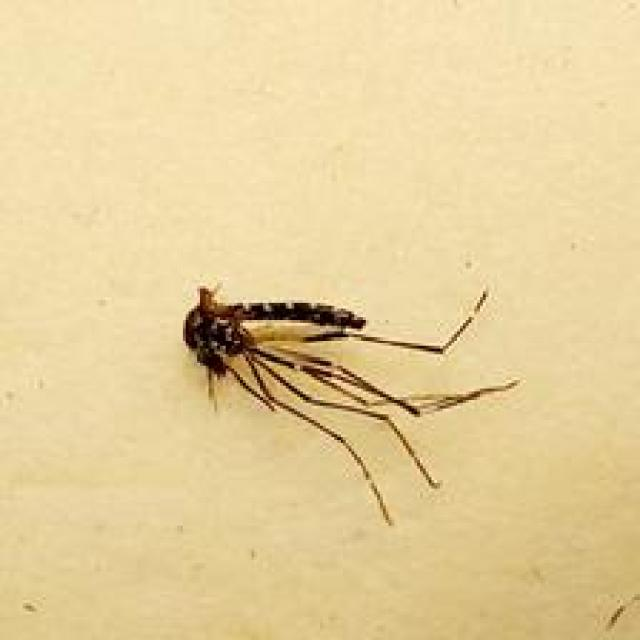Aedes albopictus: (180, 280, 520, 529)
